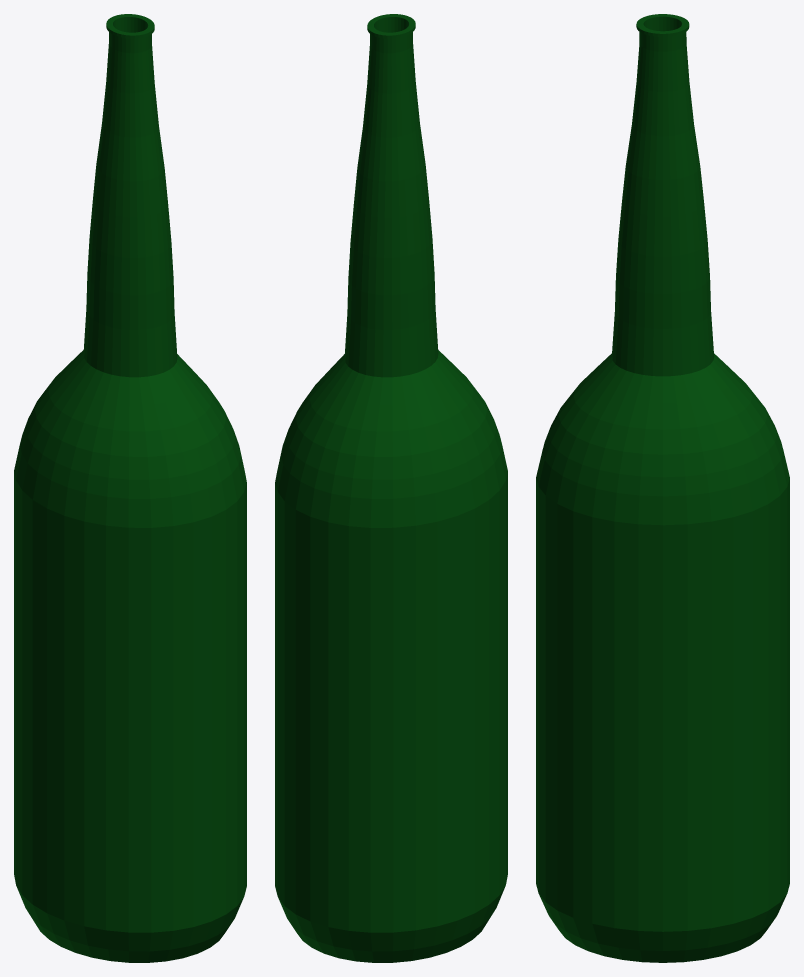
The model's file is WineBottle.obj.
The picture shows the model from 3 angles, left to right: view 1: azimuth 30°, elevation 25°; view 2: azimuth 150°, elevation 25°; view 3: azimuth 270°, elevation 25°; orthographic projection.
Parts seen in each view (by area): view 1: Cylinder; view 2: Cylinder; view 3: Cylinder.
Part boxes in pixels (<box>): Cylinder: <box>14,14,246,962</box>; Cylinder: <box>275,14,507,962</box>; Cylinder: <box>536,14,789,962</box>.
Bounding box in the file's own units: 0.0978 × 0.4307 × 0.1095.
